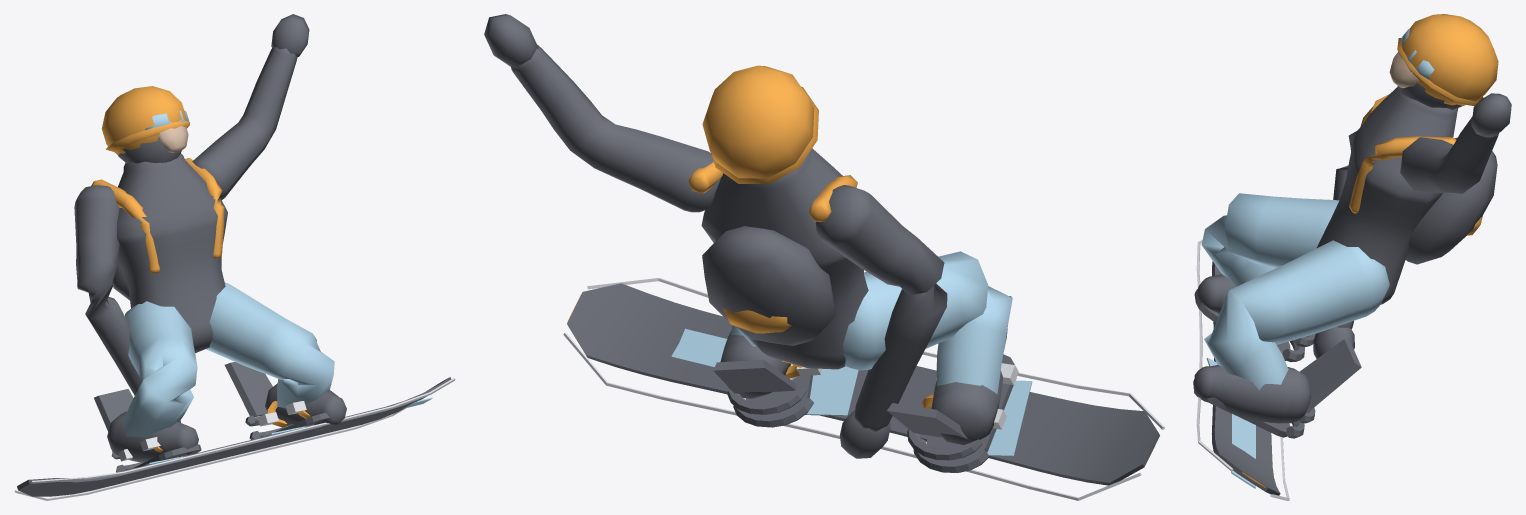
File: backcountry-snowboarding-and-avalanche-safety-rider-ai-b1121903__18923.glb
3 renders of one model, left to right at view 1: azimuth 30°, elevation 25°; view 2: azimuth 150°, elevation 25°; view 3: azimuth 270°, elevation 25°, orthographic. The views are drawn at different scales.
Visible parts, largest first — view 1: rider-airborne-off-lip; view 2: rider-airborne-off-lip; view 3: rider-airborne-off-lip.
Part boxes in pixels (x1=…): rider-airborne-off-lip: x1=14, y1=14, x2=455, y2=500; rider-airborne-off-lip: x1=484, y1=14, x2=1164, y2=500; rider-airborne-off-lip: x1=1193, y1=14, x2=1511, y2=500.
Size of the model in its own units: 1.54 by 1.18 by 0.848.
